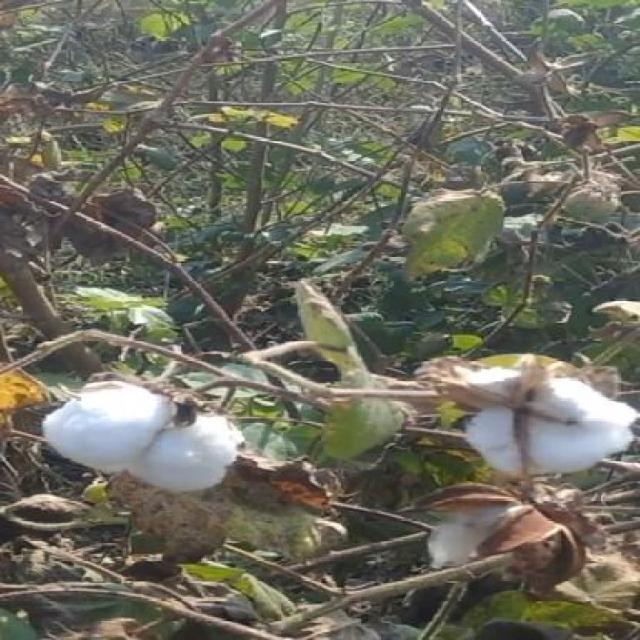cotton_ready: (434, 354, 634, 492), (10, 378, 250, 492)
